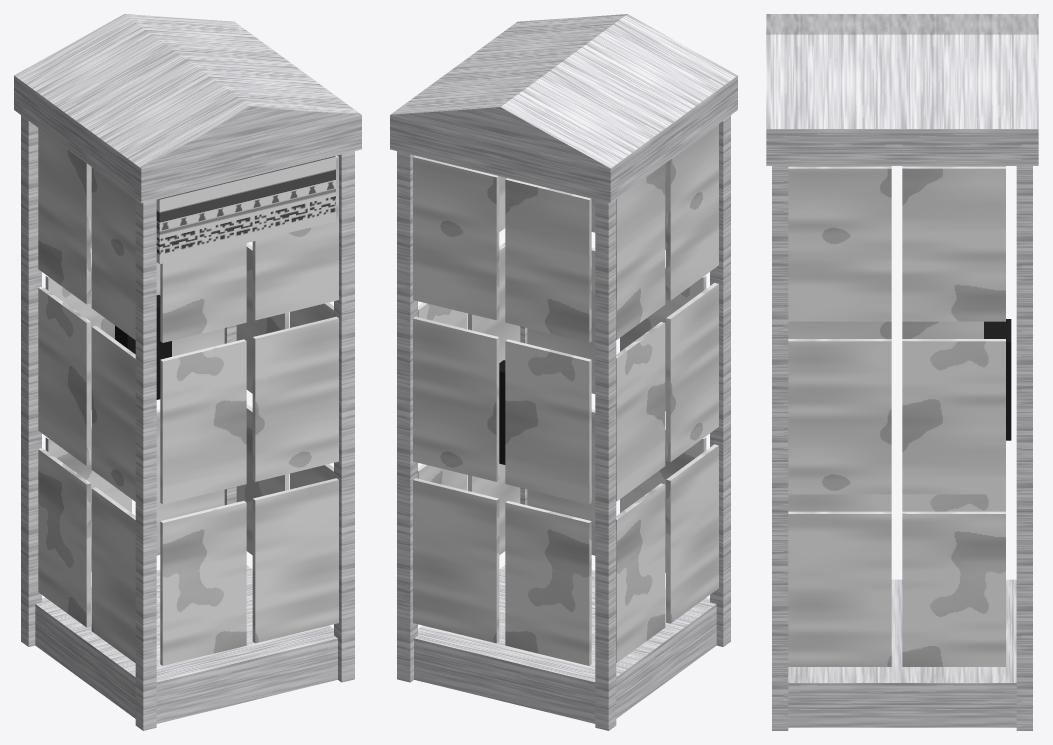
Rendered from cabina_telefonica.obj.
The picture shows the model from 3 angles, left to right: view 1: azimuth 30°, elevation 25°; view 2: azimuth 150°, elevation 25°; view 3: azimuth 270°, elevation 25°; orthographic projection. The views are drawn at different scales.
Visible parts, largest first — view 1: vetro_001, metallo_000, stampa_a_003, liscio_002; view 2: vetro_001, metallo_000, liscio_002; view 3: vetro_001, metallo_000, liscio_002.
Boxes of the visible parts, x1,y1,x2,y2 form: vetro_001: (38,128,338,665); metallo_000: (14,14,361,730); stampa_a_003: (156,156,335,264); liscio_002: (115,295,171,399); vetro_001: (413,124,718,665); metallo_000: (390,14,737,730); liscio_002: (499,360,505,464); vetro_001: (788,166,1005,666); metallo_000: (766,14,1038,730); liscio_002: (984,319,1011,440).
Bounding box in the file's own units: 1 × 2.6 × 1.
Materials: 4 (3 with a texture image).
